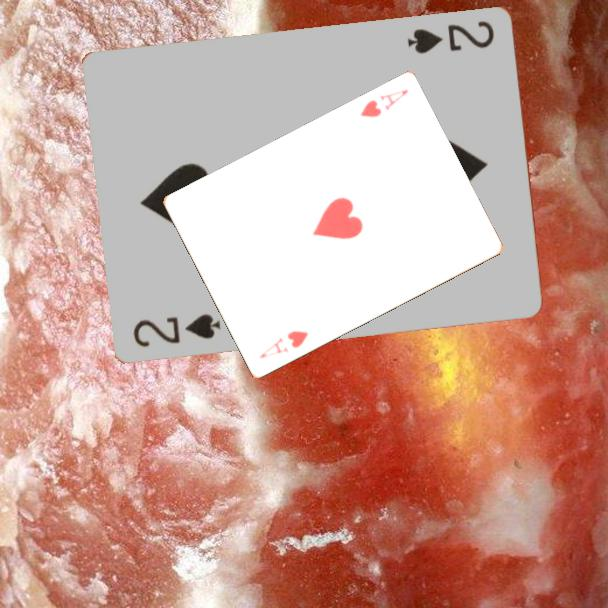h01: (256, 327, 311, 362), (356, 86, 411, 121)
s02: (130, 309, 224, 350), (404, 17, 498, 56)
